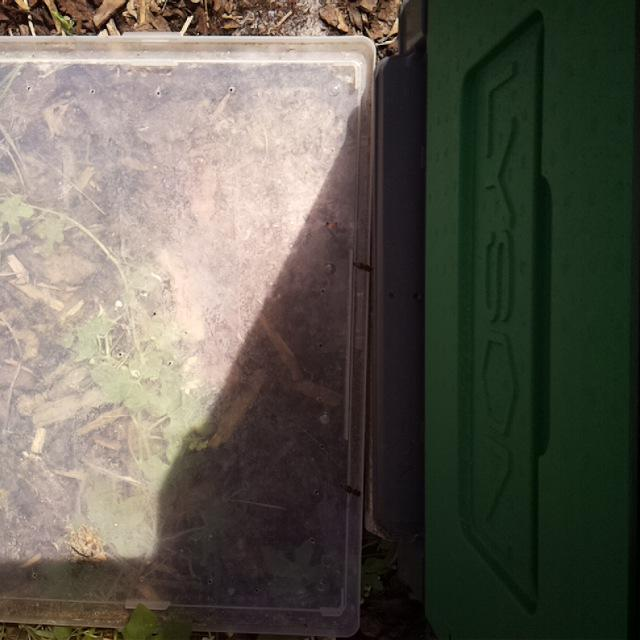worker-bee: (339, 479, 365, 505), (351, 258, 379, 278)
